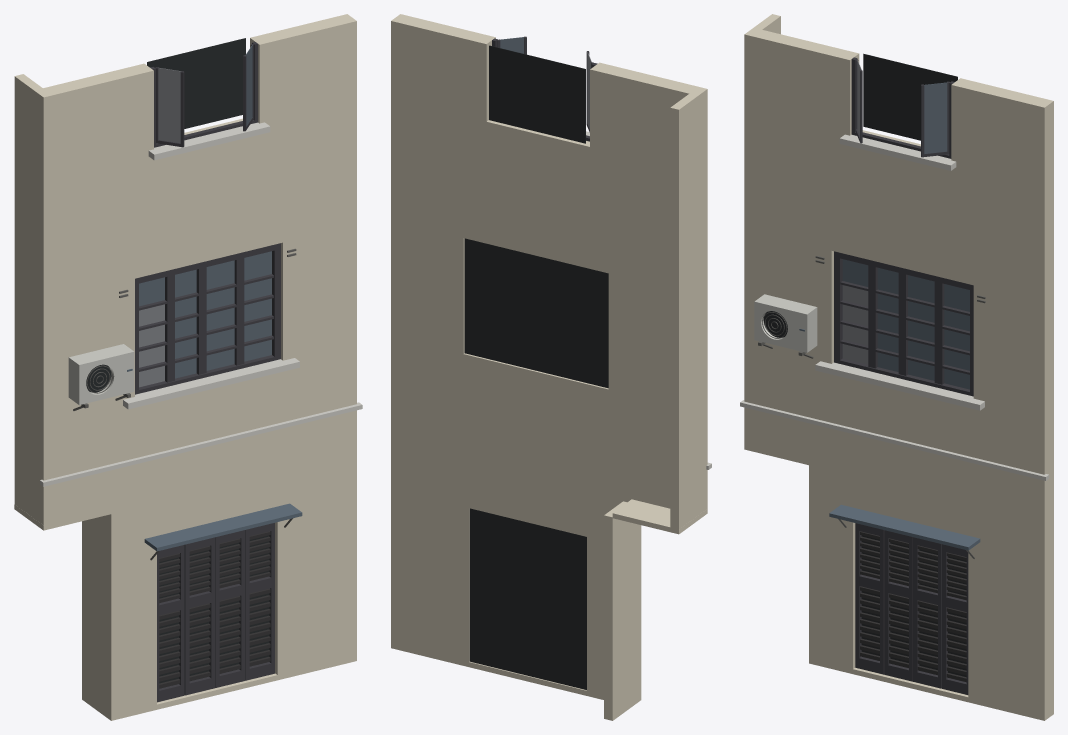
The model's file is lod-source.glb.
The picture shows the model from 3 angles, left to right: view 1: azimuth 30°, elevation 25°; view 2: azimuth 150°, elevation 25°; view 3: azimuth 330°, elevation 25°; orthographic projection. The views are drawn at different scales.
Parts seen in each view (by area): view 1: 襄阳南路313号修缮后住宅院面; view 2: 襄阳南路313号修缮后住宅院面; view 3: 襄阳南路313号修缮后住宅院面.
Boxes of the visible parts, box(x1,y1,x2,y2) form: 襄阳南路313号修缮后住宅院面: box(14, 14, 362, 720); 襄阳南路313号修缮后住宅院面: box(391, 14, 711, 720); 襄阳南路313号修缮后住宅院面: box(740, 14, 1053, 720).
Size of the model in its own units: 4.11 by 7.88 by 0.955.
